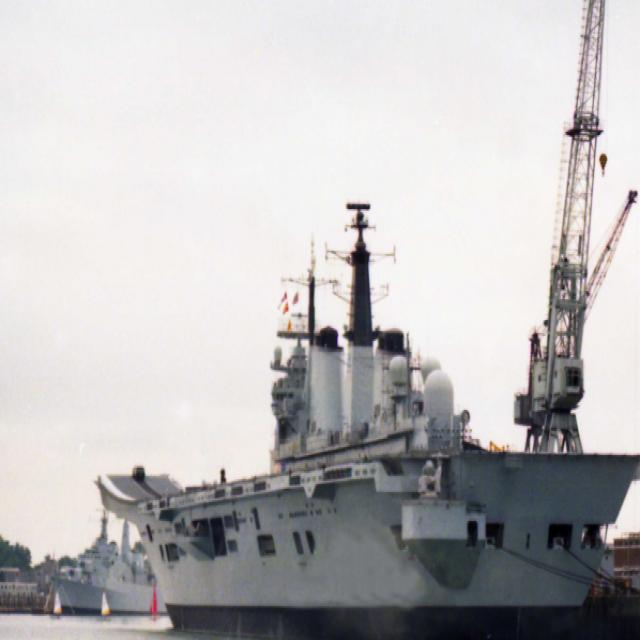Portanaves: (94, 196, 640, 640)
